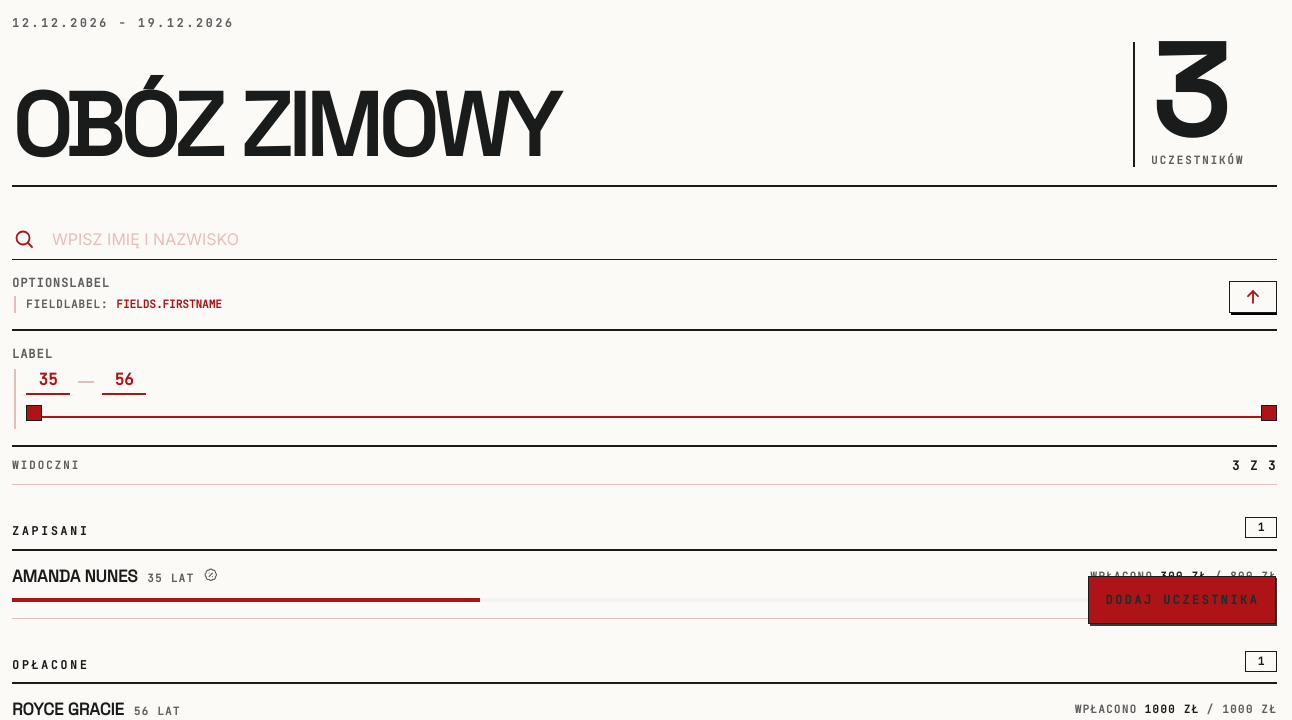
it: CampDetailsView › lets a coach narrow the camp ledger with the shared search control
The image size is (1292, 720).
Type "royce" into the field with id "camp-details-search". click: [664, 239]
box: [52,227,1277,251]
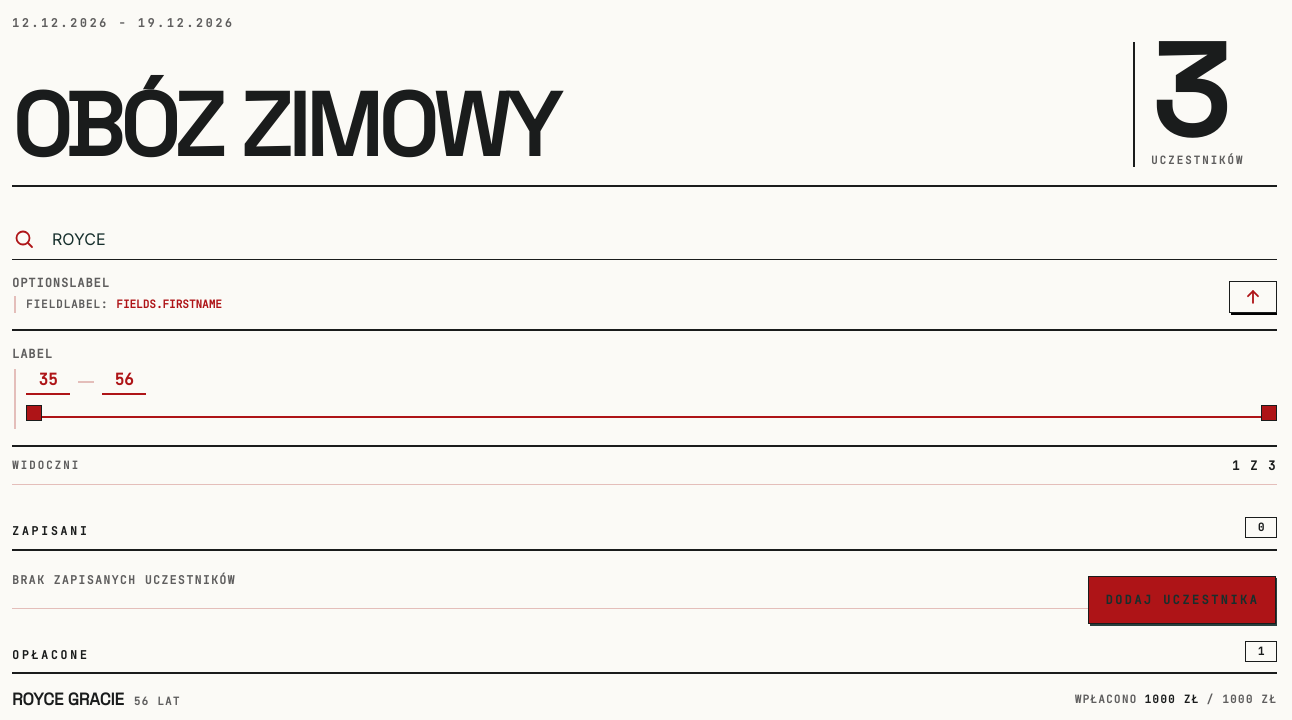
Check: the text "Royce Gracie" is shown, box [12,690,124,710]
Check: the text with class "camp-details-view__visible-count" reads "1 z 3", box [1232,457,1277,474]
Check: the text "Amanda Nunes" is gone
